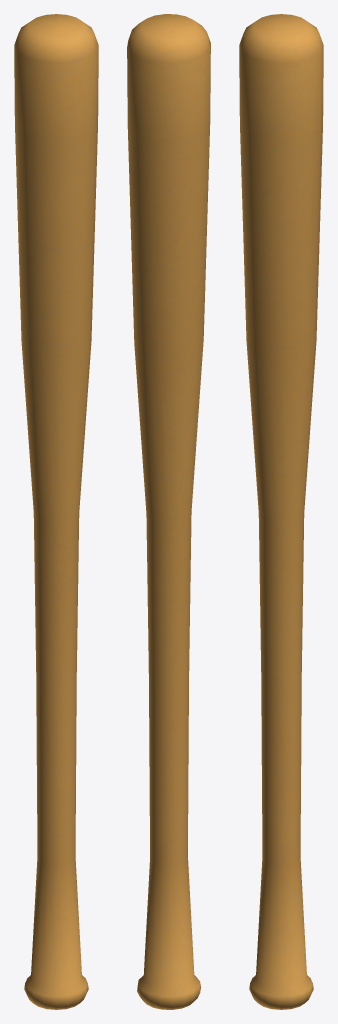
The model's file is BATDORADOGACHA.glb.
The picture shows the model from 3 angles, left to right: view 1: azimuth 90°, elevation 25°; view 2: azimuth 210°, elevation 25°; view 3: azimuth 270°, elevation 25°; orthographic projection.
Visible parts, largest first — view 1: Cube; view 2: Cube; view 3: Cube.
Part boxes in pixels (x1,y1,x2,y2): Cube: [14, 14, 98, 1009]; Cube: [127, 14, 210, 1009]; Cube: [239, 14, 323, 1009].
Size of the model in its own units: 0.3148 by 4.01 by 0.3148.
Materials: 1 (1 with a texture image).
